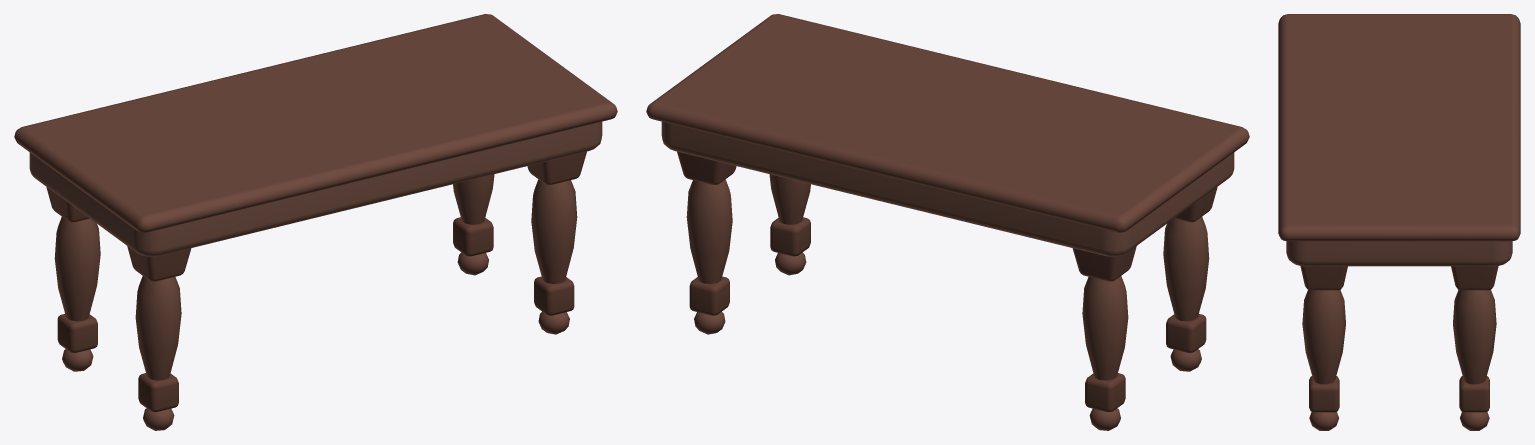
Rendered from Kitchen_Table_09.glb.
The picture shows the model from 3 angles, left to right: view 1: azimuth 30°, elevation 25°; view 2: azimuth 150°, elevation 25°; view 3: azimuth 270°, elevation 25°; orthographic projection. The views are drawn at different scales.
Parts seen in each view (by area): view 1: Kitchen_Table_09; view 2: Kitchen_Table_09; view 3: Kitchen_Table_09.
Part boxes in pixels (x1,y1,x2,y2): Kitchen_Table_09: [14, 14, 617, 430]; Kitchen_Table_09: [646, 14, 1249, 430]; Kitchen_Table_09: [1278, 14, 1520, 430].
Size of the model in its own units: 1.6 by 0.7526 by 0.7501.
Materials: 1 (1 with a texture image).
